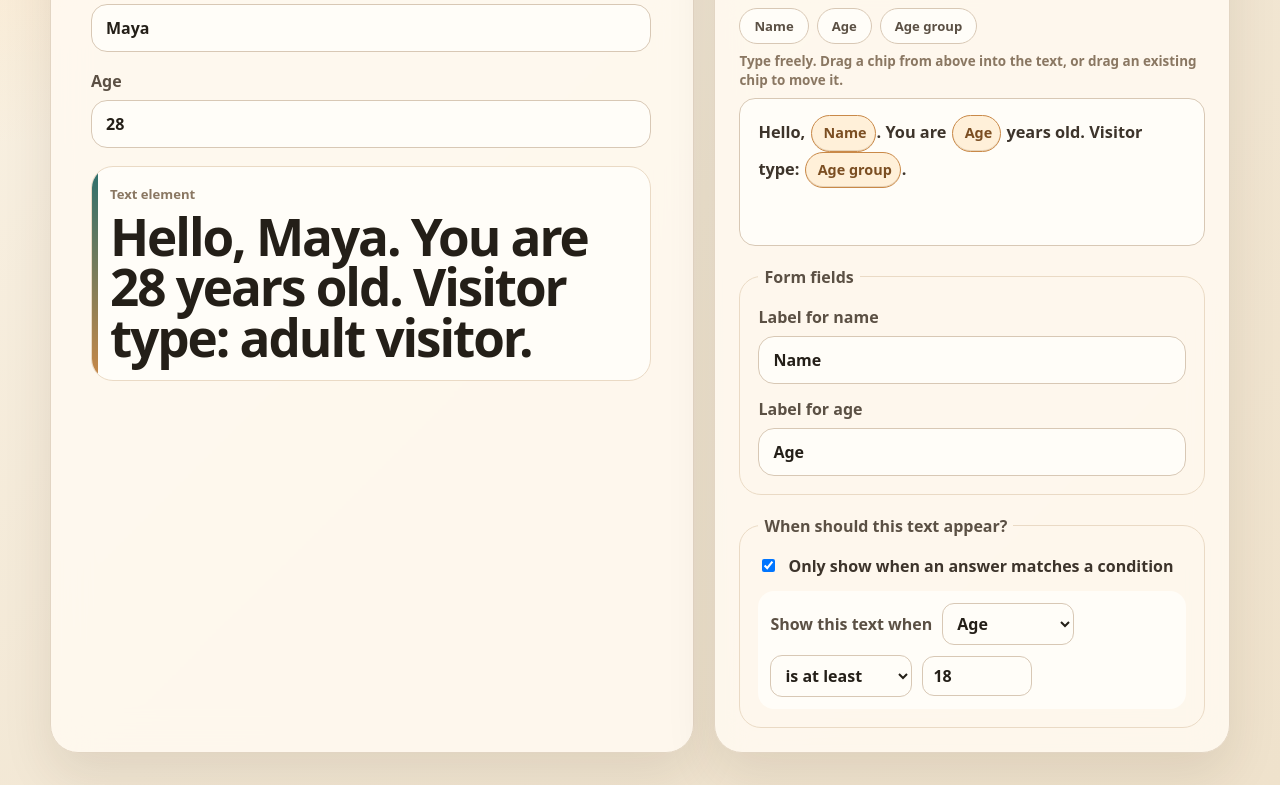
Test case: App › updates visibility when the minimum age changes
(page scrolled)
Replace the text in the number field named "comparison answer" with "30": (977, 676) [922,656,1032,696]
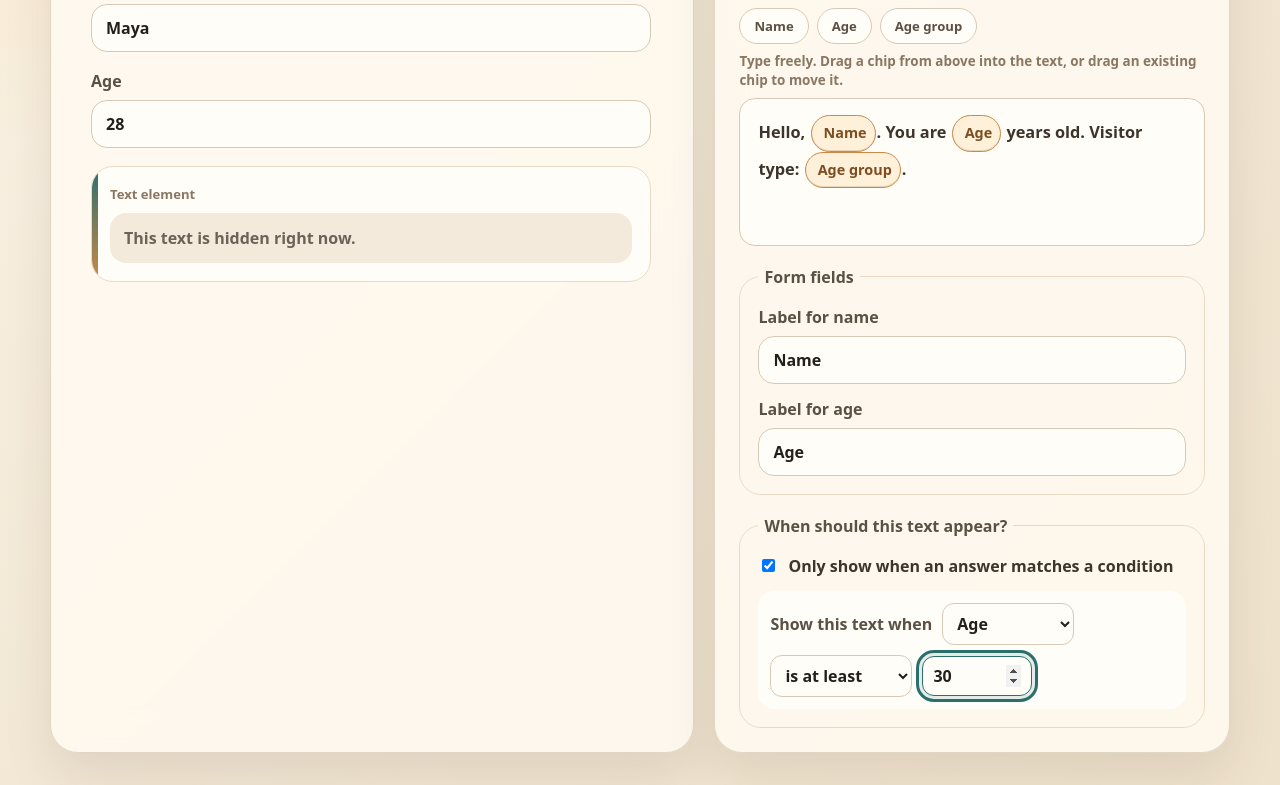
expect the text "This text is hidden right now." is shown: met, box [110,213,632,263]
